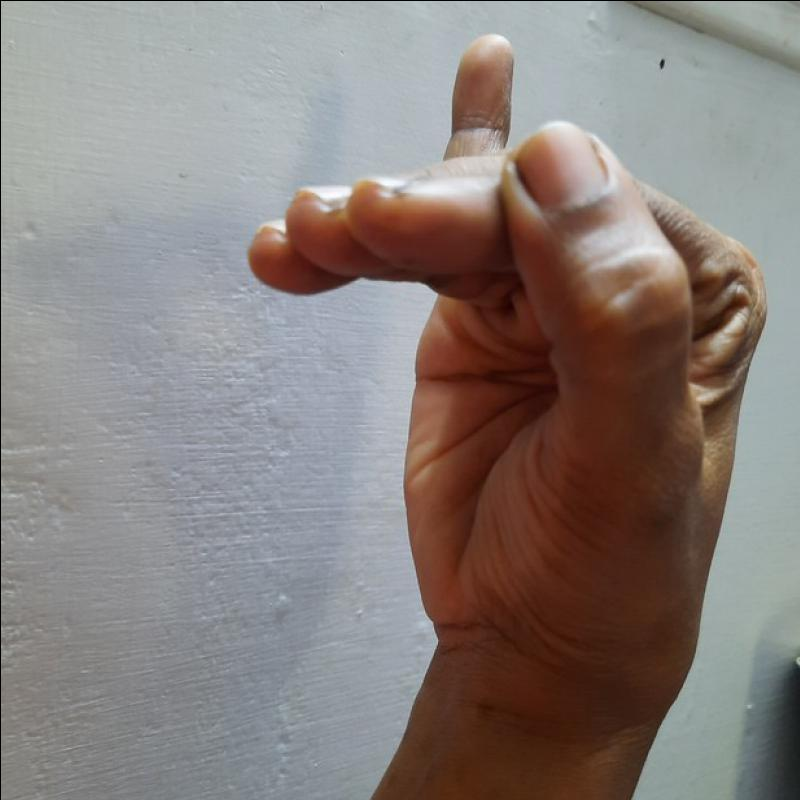Kartharee Mukham: (235, 25, 773, 705)
